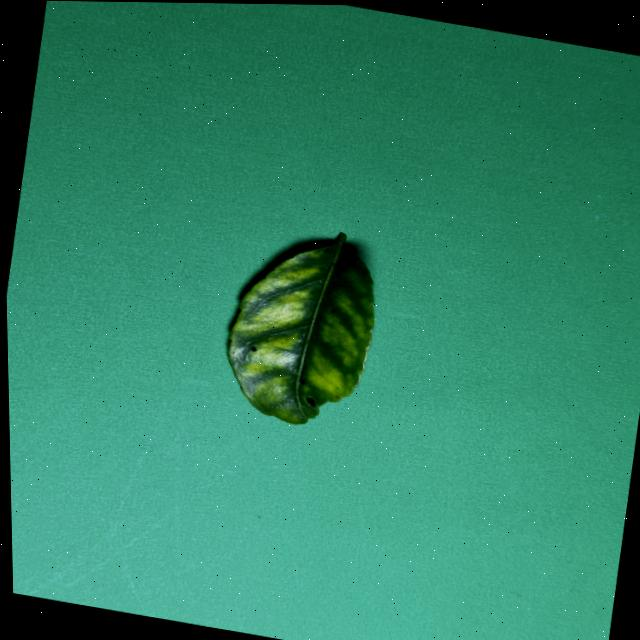greening: (228, 234, 374, 424)
